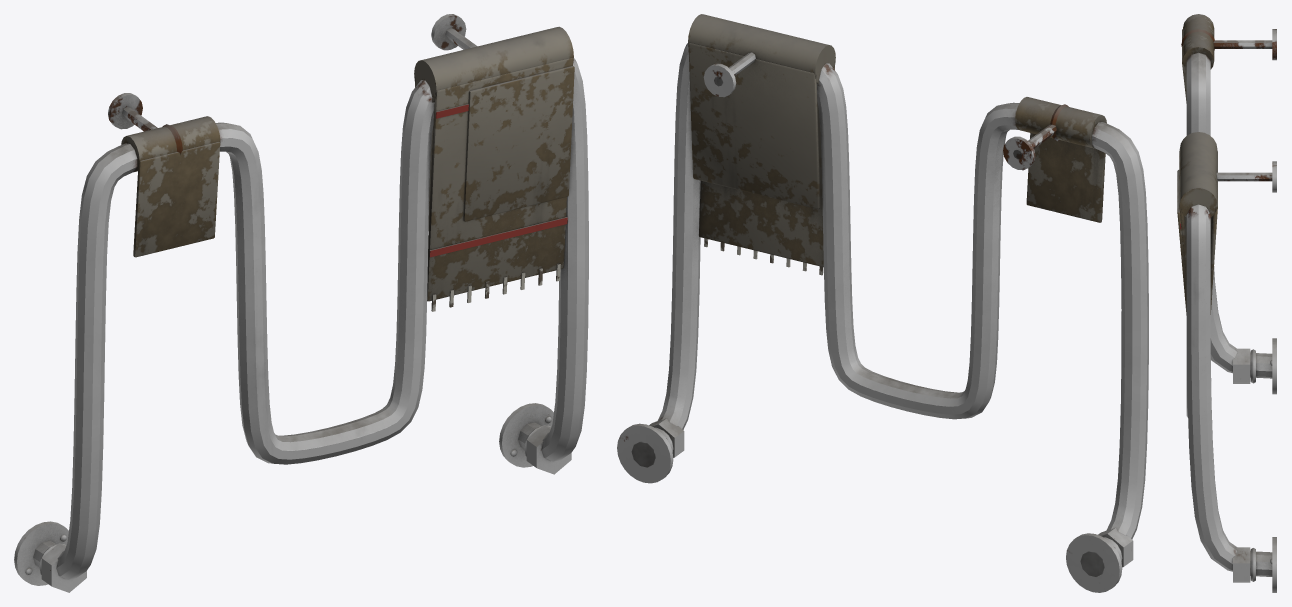
The model's file is SM_TowelRail_Heated.fbx.
The picture shows the model from 3 angles, left to right: view 1: azimuth 30°, elevation 25°; view 2: azimuth 150°, elevation 25°; view 3: azimuth 270°, elevation 25°; orthographic projection. The views are drawn at different scales.
Visible parts, largest first — view 1: SM_TowelRail_Heated; view 2: SM_TowelRail_Heated; view 3: SM_TowelRail_Heated.
Boxes of the visible parts, x1=… form: SM_TowelRail_Heated: x1=14, y1=14, x2=588, y2=592; SM_TowelRail_Heated: x1=617, y1=14, x2=1148, y2=592; SM_TowelRail_Heated: x1=1177, y1=14, x2=1276, y2=592.
Bounding box in the file's own units: 0.672 × 0.56 × 0.128.
Materials: 1 (1 with a texture image).
